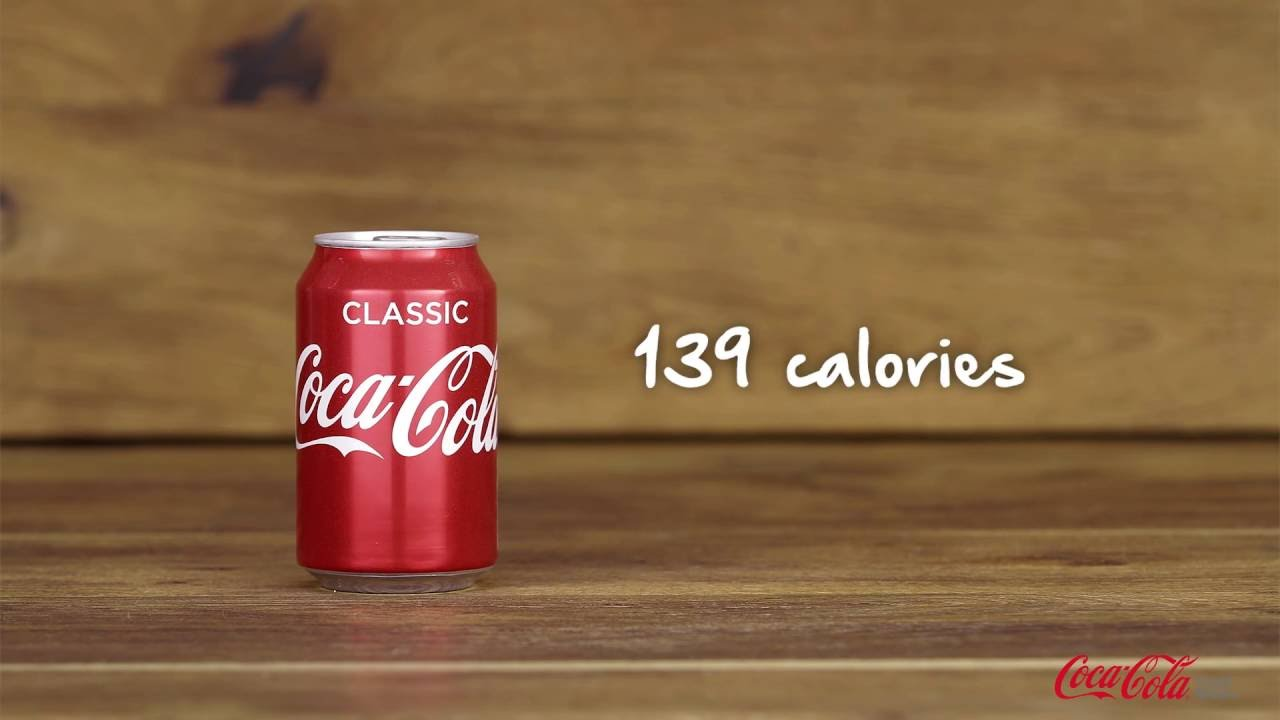can: (290, 219, 515, 600)
